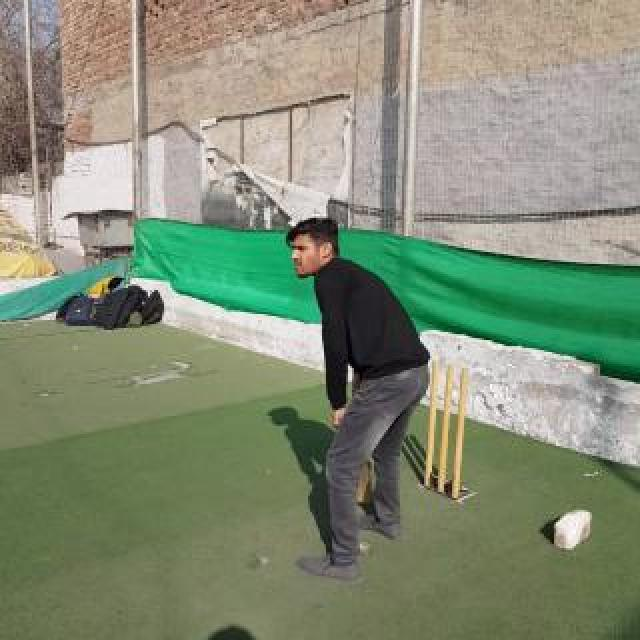bat: (354, 462, 374, 504)
